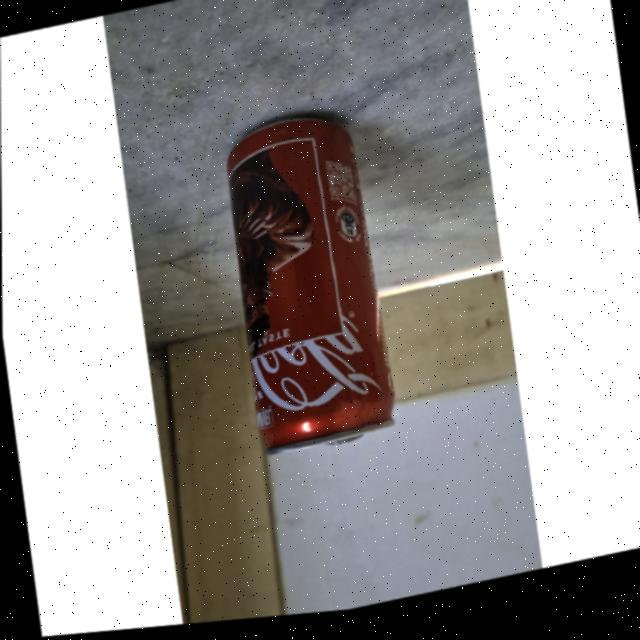Coca Cola - Marvel: (216, 114, 397, 463)
